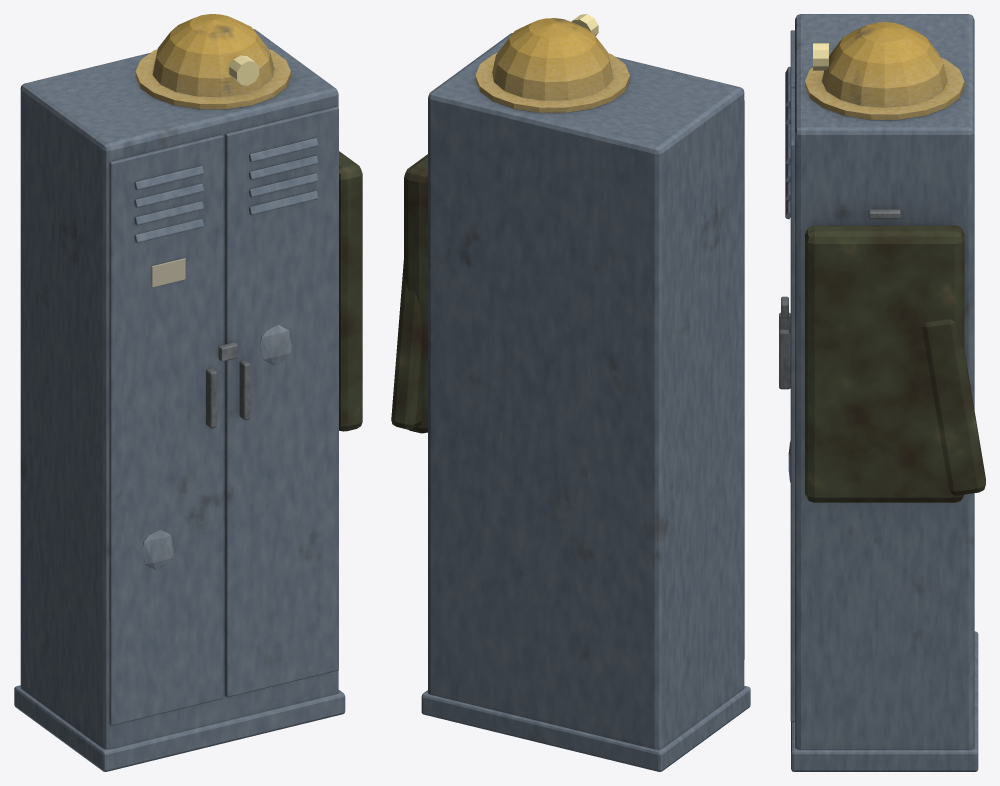
File: poi_miner_locker.glb
The picture shows the model from 3 angles, left to right: view 1: azimuth 30°, elevation 25°; view 2: azimuth 150°, elevation 25°; view 3: azimuth 270°, elevation 25°; orthographic projection. The views are drawn at different scales.
Parts seen in each view (by area): view 1: poi_miner_locker; view 2: poi_miner_locker; view 3: poi_miner_locker.
Part boxes in pixels (x1,y1,x2,y2): poi_miner_locker: (14,14,362,771); poi_miner_locker: (391,14,750,771); poi_miner_locker: (779,14,985,771).
Bounding box in the file's own units: 0.805 × 1.94 × 0.5188.
6 materials, 6 textured.
